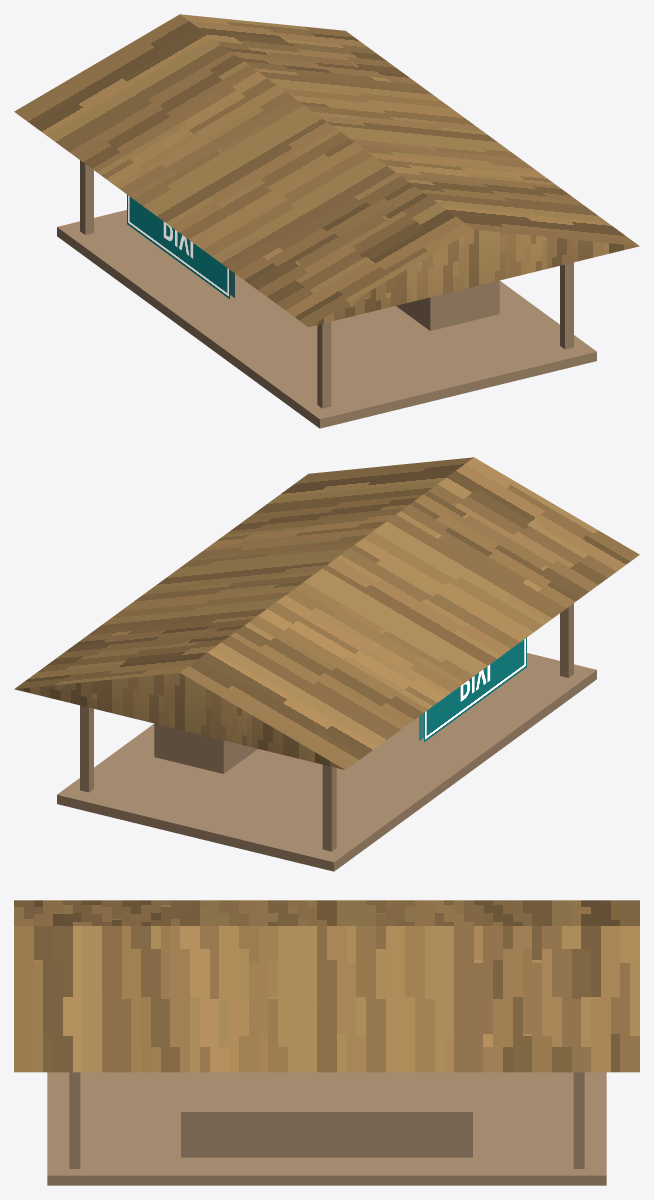
File: divi_bar.glb
The picture shows the model from 3 angles, top to bottom: view 1: azimuth 30°, elevation 25°; view 2: azimuth 150°, elevation 25°; view 3: azimuth 270°, elevation 25°; orthographic projection. The views are drawn at different scales.
Parts seen in each view (by area): view 1: divi_bar_lod0; view 2: divi_bar_lod0; view 3: divi_bar_lod0.
Part boxes in pixels (<box>): divi_bar_lod0: <box>14,14,639,428</box>; divi_bar_lod0: <box>14,457,639,871</box>; divi_bar_lod0: <box>14,900,639,1185</box>.
Size of what is drawn, in the model's own units: 6.7 by 3.45 by 10.3.
Materials: 4 (2 with a texture image).
